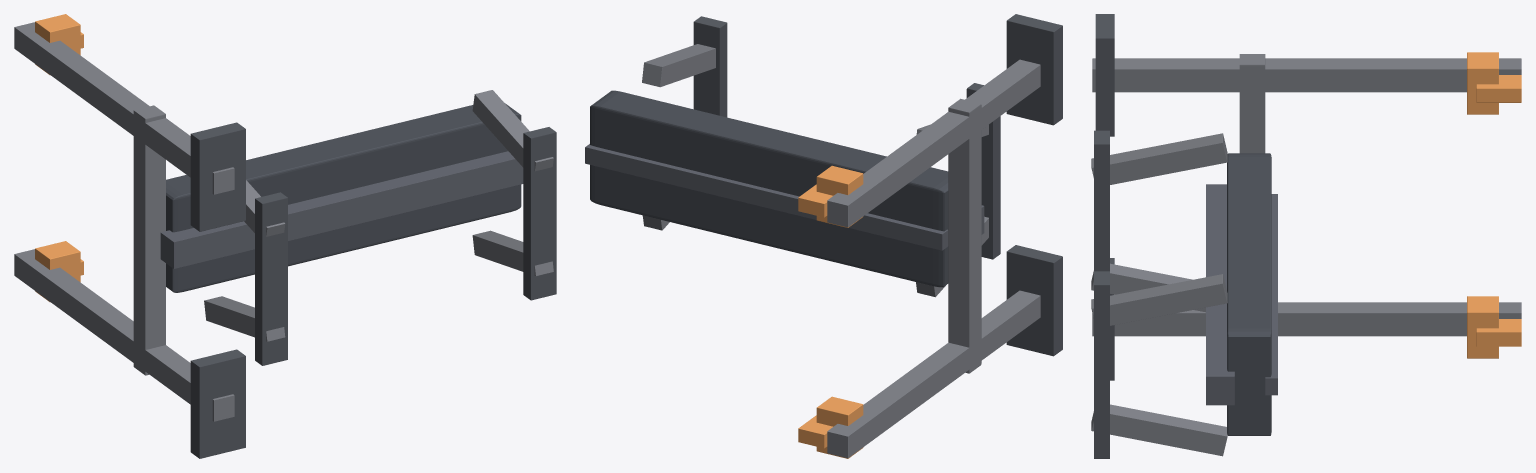
The model's file is weight_bench.glb.
3 renders of one model, left to right at view 1: azimuth 30°, elevation 25°; view 2: azimuth 150°, elevation 25°; view 3: azimuth 270°, elevation 25°, orthographic. The views are drawn at different scales.
Visible parts, largest first — view 1: pad, spine, crossbrace, upright_0.42, upright_-0.42, foot_0.52, foot_-0.52, upfoot_0.42, upfoot_-0.42, leg_0.52_0.22, leg_0.52_-0.22, leg_-0.52_-0.22 (+3 smaller); view 2: pad, upright_0.42, upright_-0.42, crossbrace, pad_seam, upfoot_0.42, upfoot_-0.42, foot_0.52, foot_-0.52, leg_0.52_0.22, jcup_-0.42, jcup_0.42 (+2 smaller); view 3: upright_0.42, pad, upright_-0.42, spine, leg_-0.52_0.22, leg_0.52_0.22, leg_0.52_-0.22, foot_0.52, crossbrace, upfoot_0.42, foot_-0.52, jcup_-0.42 (+5 smaller).
Boxes of the visible parts, left/top/right/bottom form: pad: left=166, top=103, right=521, bottom=292; spine: left=160, top=151, right=523, bottom=268; crossbrace: left=133, top=105, right=165, bottom=375; upright_0.42: left=14, top=22, right=234, bottom=194; upright_-0.42: left=14, top=249, right=234, bottom=421; foot_0.52: left=523, top=127, right=556, bottom=300; foot_-0.52: left=255, top=192, right=287, bottom=365; upfoot_0.42: left=190, top=122, right=245, bottom=231; upfoot_-0.42: left=190, top=349, right=245, bottom=458; leg_0.52_0.22: left=472, top=90, right=553, bottom=171; leg_0.52_-0.22: left=472, top=230, right=553, bottom=276; leg_-0.52_-0.22: left=204, top=296, right=285, bottom=341; pad: left=590, top=90, right=948, bottom=287; upright_0.42: left=827, top=59, right=1040, bottom=227; upright_-0.42: left=827, top=290, right=1040, bottom=458; crossbrace: left=948, top=98, right=981, bottom=373; pad_seam: left=585, top=144, right=948, bottom=250; upfoot_0.42: left=1006, top=14, right=1062, bottom=125; upfoot_-0.42: left=1006, top=245, right=1062, bottom=356; foot_0.52: left=693, top=16, right=727, bottom=117; foot_-0.52: left=966, top=83, right=1000, bottom=259; leg_0.52_0.22: left=642, top=44, right=715, bottom=87; jcup_-0.42: left=816, top=396, right=863, bottom=458; jcup_0.42: left=816, top=165, right=863, bottom=227; upright_0.42: left=1092, top=58, right=1521, bottom=92; pad: left=1227, top=153, right=1271, bottom=435; upright_-0.42: left=1092, top=302, right=1521, bottom=336; spine: left=1206, top=184, right=1234, bottom=405; leg_-0.52_0.22: left=1091, top=133, right=1227, bottom=184; leg_0.52_0.22: left=1091, top=274, right=1227, bottom=325; leg_0.52_-0.22: left=1091, top=404, right=1227, bottom=456; foot_0.52: left=1094, top=271, right=1109, bottom=458; crossbrace: left=1239, top=54, right=1265, bottom=153; upfoot_0.42: left=1095, top=14, right=1114, bottom=136; foot_-0.52: left=1094, top=130, right=1109, bottom=271; jcup_-0.42: left=1467, top=296, right=1498, bottom=358.
Bounding box in the file's own units: 1.52 × 1.18 × 1.34.
